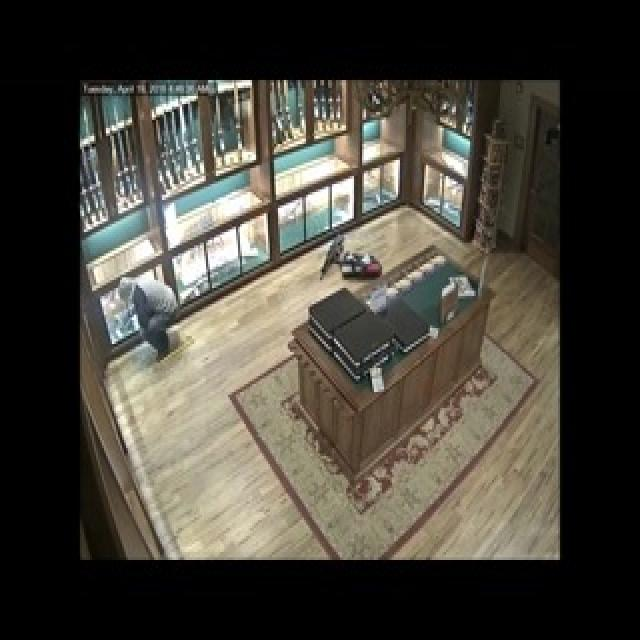thief: (116, 262, 185, 358)
